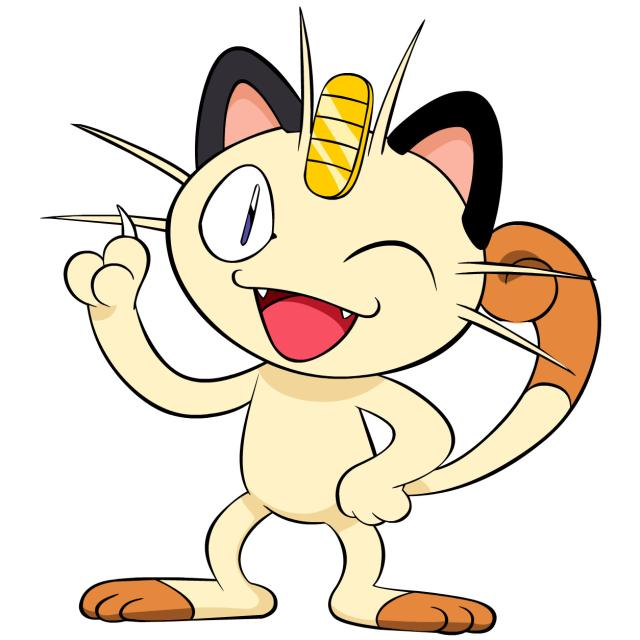Meowth: (154, 39, 514, 639)
